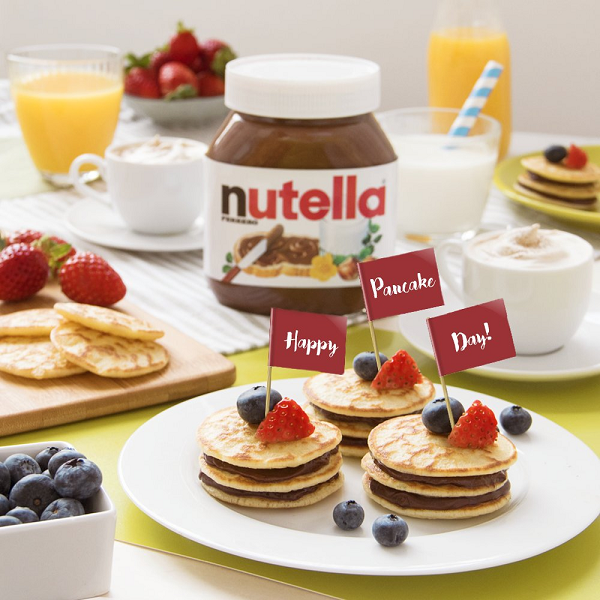nutella: (203, 51, 399, 316)
